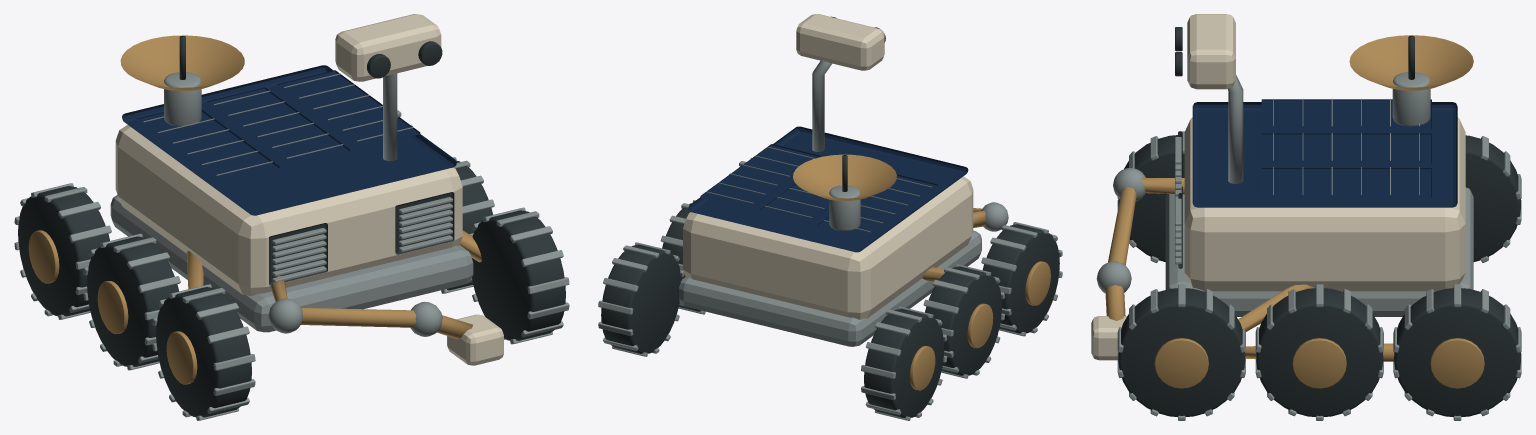
The model's file is rover-rv02.glb.
3 views of the same model, side by side, from view 1: azimuth 30°, elevation 25°; view 2: azimuth 150°, elevation 25°; view 3: azimuth 270°, elevation 25° (orthographic). The views are drawn at different scales.
Visible parts, largest first — view 1: H01 batch 04 / Ares S02 / charcoal seals, H01 batch 00 / Ares S02 / titanium struts, H01 batch 01 / Ares S02 / ceramic pressure shell, H01 batch 02 / Ares S02 / photovoltaic blue, H01 batch 03 / Ares S02 / brushed bronze; view 2: H01 batch 01 / Ares S02 / ceramic pressure shell, H01 batch 04 / Ares S02 / charcoal seals, H01 batch 00 / Ares S02 / titanium struts, H01 batch 02 / Ares S02 / photovoltaic blue, H01 batch 03 / Ares S02 / brushed bronze; view 3: H01 batch 04 / Ares S02 / charcoal seals, H01 batch 01 / Ares S02 / ceramic pressure shell, H01 batch 02 / Ares S02 / photovoltaic blue, H01 batch 00 / Ares S02 / titanium struts, H01 batch 03 / Ares S02 / brushed bronze.
Boxes of the visible parts, bbox=[...] form: H01 batch 04 / Ares S02 / charcoal seals: bbox=[18, 36, 565, 417]; H01 batch 00 / Ares S02 / titanium struts: bbox=[14, 72, 569, 420]; H01 batch 01 / Ares S02 / ceramic pressure shell: bbox=[115, 14, 503, 365]; H01 batch 02 / Ares S02 / photovoltaic blue: bbox=[122, 65, 456, 215]; H01 batch 03 / Ares S02 / brushed bronze: bbox=[28, 35, 481, 384]; H01 batch 01 / Ares S02 / ceramic pressure shell: bbox=[683, 14, 973, 319]; H01 batch 04 / Ares S02 / charcoal seals: bbox=[601, 16, 1059, 417]; H01 batch 00 / Ares S02 / titanium struts: bbox=[598, 60, 1062, 420]; H01 batch 02 / Ares S02 / photovoltaic blue: bbox=[688, 126, 968, 252]; H01 batch 03 / Ares S02 / brushed bronze: bbox=[793, 154, 1050, 390]; H01 batch 04 / Ares S02 / charcoal seals: bbox=[1118, 27, 1520, 416]; H01 batch 01 / Ares S02 / ceramic pressure shell: bbox=[1091, 14, 1465, 360]; H01 batch 02 / Ares S02 / photovoltaic blue: bbox=[1192, 99, 1457, 207]; H01 batch 00 / Ares S02 / titanium struts: bbox=[1096, 72, 1521, 420]; H01 batch 03 / Ares S02 / brushed bronze: bbox=[1105, 35, 1484, 388].
Bounding box in the file's own units: 1.55 × 1.32 × 1.59.
